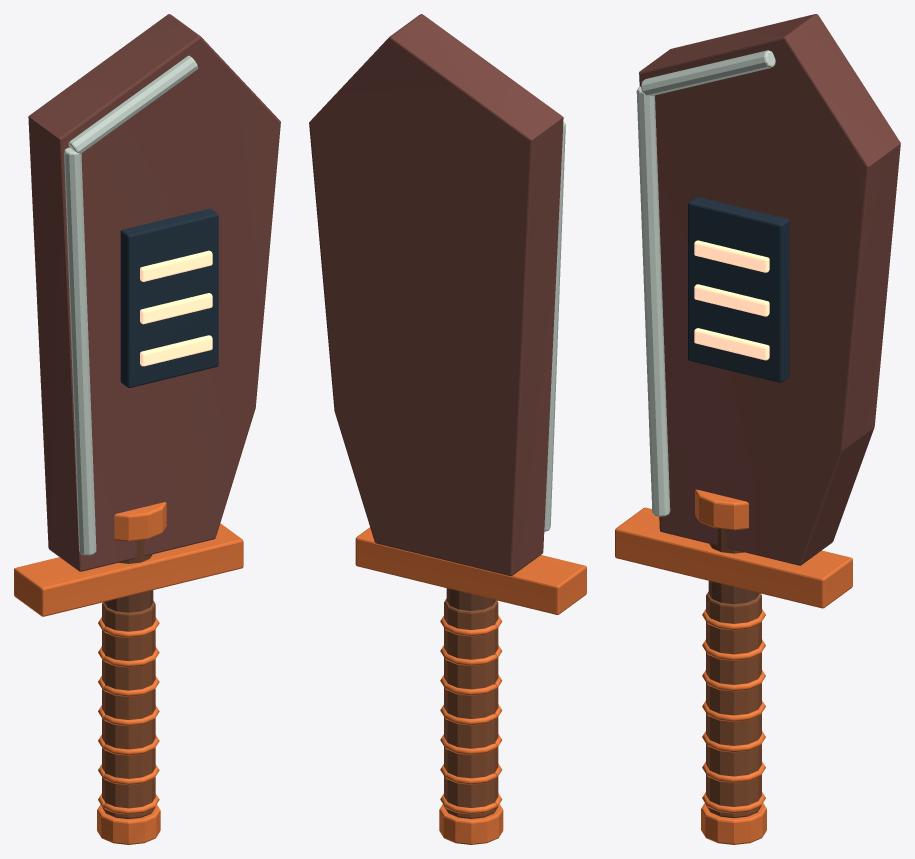
File: item_006.glb
3 renders of one model, left to right at view 1: azimuth 30°, elevation 25°; view 2: azimuth 150°, elevation 25°; view 3: azimuth 330°, elevation 25°, orthographic. The views are drawn at different scales.
Parts seen in each view (by area): view 1: Item_006_crucible_falchion; view 2: Item_006_crucible_falchion; view 3: Item_006_crucible_falchion.
Boxes of the visible parts, x1,y1,x2,y2 form: Item_006_crucible_falchion: [14, 14, 280, 844]; Item_006_crucible_falchion: [309, 14, 586, 844]; Item_006_crucible_falchion: [615, 14, 900, 844].
Bounding box in the file's own units: 0.48 × 1.49 × 0.161.
